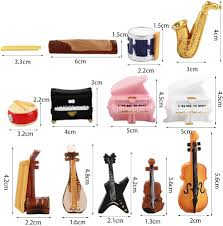Piano: (41, 78, 119, 144)
Saxophone: (155, 6, 223, 69)
Violin: (135, 140, 186, 226)
